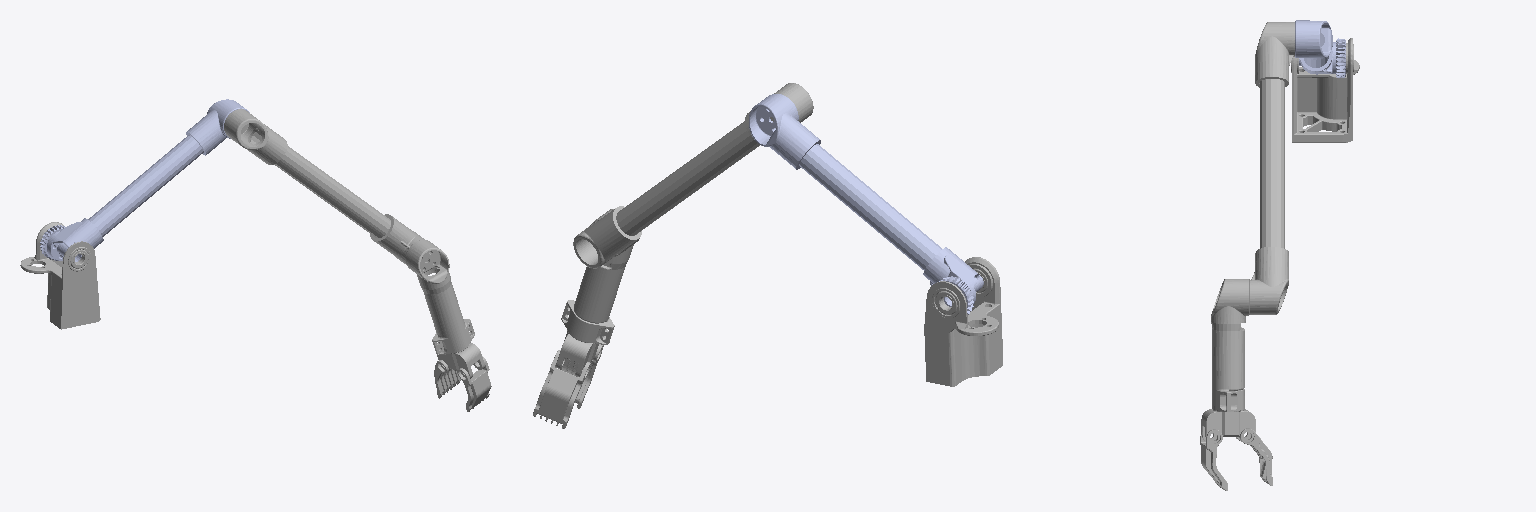
The robot description file, URDF, robot "rat_urdfV1":
<?xml version="1.0" encoding="utf-8"?>
<!-- This URDF was automatically created by SolidWorks to URDF Exporter! Originally created by [author] ([email redacted]) 
     Commit Version: 1.6.0-4-g7f85cfe  Build Version: 1.6.7995.38578
     For more information, please see http://wiki.ros.org/sw_urdf_exporter -->
<robot
  name="rat_urdfV1">
  <link
    name="base_link">
    <inertial>
      <origin
        xyz="-0.00105353460009916 0.00395118415088935 -0.0399600828153338"
        rpy="0 0 0" />
      <mass
        value="0.059829022234246" />
      <inertia
        ixx="6.3397078550932E-05"
        ixy="-1.06214647964569E-06"
        ixz="4.48054678655794E-06"
        iyy="4.7362461474483E-05"
        iyz="-2.68590964028184E-06"
        izz="3.99350900256168E-05" />
    </inertial>
    <visual>
      <origin
        xyz="0 0 0"
        rpy="0 0 0" />
      <geometry>
        <mesh
          filename="package://rat_urdfV1/meshes/base_link.STL" />
      </geometry>
      <material
        name="">
        <color
          rgba="0.752941176470588 0.752941176470588 0.752941176470588 1" />
      </material>
    </visual>
    <collision>
      <origin
        xyz="0 0 0"
        rpy="0 0 0" />
      <geometry>
        <mesh
          filename="package://rat_urdfV1/meshes/base_link.STL" />
      </geometry>
    </collision>
  </link>
  <link
    name="link_1">
    <inertial>
      <origin
        xyz="0.0973373104332576 0.00239973952830586 0.0554981007184413"
        rpy="0 0 0" />
      <mass
        value="0.0618461369293835" />
      <inertia
        ixx="2.64387160637856E-05"
        ixy="1.76914824088174E-06"
        ixz="-2.56689678558401E-05"
        iyy="7.23730226697421E-05"
        iyz="1.00875150442915E-06"
        izz="5.68046234004272E-05" />
    </inertial>
    <visual>
      <origin
        xyz="0 0 0"
        rpy="0 0 0" />
      <geometry>
        <mesh
          filename="package://rat_urdfV1/meshes/link_1.STL" />
      </geometry>
      <material
        name="">
        <color
          rgba="0.792156862745098 0.819607843137255 0.933333333333333 1" />
      </material>
    </visual>
    <collision>
      <origin
        xyz="0 0 0"
        rpy="0 0 0" />
      <geometry>
        <mesh
          filename="package://rat_urdfV1/meshes/link_1.STL" />
      </geometry>
    </collision>
  </link>
  <joint
    name="base_joint"
    type="revolute">
    <origin
      xyz="0 0 0"
      rpy="0 0 0" />
    <parent
      link="base_link" />
    <child
      link="link_1" />
    <axis
      xyz="0 -1 0" />
    <limit
      lower="0"
      upper="7"
      effort="0"
      velocity="0" />
  </joint>
  <link
    name="link_2">
    <inertial>
      <origin
        xyz="0.137999900222464 3.16091430119236E-06 -1.86876241830558E-05"
        rpy="0 0 0" />
      <mass
        value="0.0742953605876426" />
      <inertia
        ixx="1.69357477418205E-05"
        ixy="4.35627088859648E-06"
        ixz="-1.82809621644486E-12"
        iyy="0.000120649605500666"
        iyz="-3.47004431825507E-11"
        izz="0.000121866463686333" />
    </inertial>
    <visual>
      <origin
        xyz="0 0 0"
        rpy="0 0 0" />
      <geometry>
        <mesh
          filename="package://rat_urdfV1/meshes/link_2.STL" />
      </geometry>
      <material
        name="">
        <color
          rgba="0.752941176470588 0.752941176470588 0.752941176470588 1" />
      </material>
    </visual>
    <collision>
      <origin
        xyz="0 0 0"
        rpy="0 0 0" />
      <geometry>
        <mesh
          filename="package://rat_urdfV1/meshes/link_2.STL" />
      </geometry>
    </collision>
  </link>
  <joint
    name="elbow_joint"
    type="revolute">
    <origin
      xyz="0.20048 -0.04323 0.11434"
      rpy="0 0.74423 0" />
    <parent
      link="link_1" />
    <child
      link="link_2" />
    <axis
      xyz="0 -1 0" />
    <limit
      lower="0"
      upper="7"
      effort="0"
      velocity="0" />
  </joint>
  <link
    name="link_3">
    <inertial>
      <origin
        xyz="0.094189207674822 0.00242736076442684 -0.000510388484783186"
        rpy="0 0 0" />
      <mass
        value="0.0816693332241095" />
      <inertia
        ixx="1.7096932296799E-05"
        ixy="1.48687675294606E-07"
        ixz="2.40060935310784E-07"
        iyy="3.06803402556489E-05"
        iyz="4.51223847501617E-07"
        izz="3.08769825297589E-05" />
    </inertial>
    <visual>
      <origin
        xyz="0 0 0"
        rpy="0 0 0" />
      <geometry>
        <mesh
          filename="package://rat_urdfV1/meshes/link_3.STL" />
      </geometry>
      <material
        name="">
        <color
          rgba="0.752941176470588 0.752941176470588 0.752941176470588 1" />
      </material>
    </visual>
    <collision>
      <origin
        xyz="0 0 0"
        rpy="0 0 0" />
      <geometry>
        <mesh
          filename="package://rat_urdfV1/meshes/link_3.STL" />
      </geometry>
    </collision>
  </link>
  <joint
    name="wrist_joint"
    type="revolute">
    <origin
      xyz="0.276 -0.04324 0"
      rpy="0 0.5236 0" />
    <parent
      link="link_2" />
    <child
      link="link_3" />
    <axis
      xyz="0 1 0" />
    <limit
      lower="0"
      upper="7"
      effort="0"
      velocity="0" />
  </joint>
</robot>

--- Facts derived from the render (not from the file) ---
3 views of the same robot in one strip: view 1: azimuth 30°, elevation 25°; view 2: azimuth 150°, elevation 25°; view 3: azimuth 270°, elevation 25° (orthographic).
Model rat_urdfV1 with 4 links and 3 joints (3 revolute), rooted at base_link, posed all joints at 0.
Links seen in each view (by area): view 1: link_3, link_2, link_1, base_link; view 2: link_1, link_2, base_link, link_3; view 3: link_2, link_3, base_link, link_1.
Link boxes in pixels (x1,y1,x2,y2): link_3: (406, 240, 491, 411); link_2: (224, 109, 428, 264); link_1: (40, 99, 249, 261); base_link: (20, 222, 100, 329); link_1: (749, 94, 983, 314); link_2: (573, 83, 813, 268); base_link: (924, 257, 1002, 386); link_3: (533, 209, 639, 428); link_2: (1250, 22, 1294, 314); link_3: (1200, 279, 1272, 490); base_link: (1291, 38, 1359, 142); link_1: (1295, 20, 1345, 77).
Size in the robot's own frame: 0.5192 by 0.1576 by 0.3925 metres.
Meshes: 4 distinct files referenced, 4 mesh visuals loaded (4 binary STL).